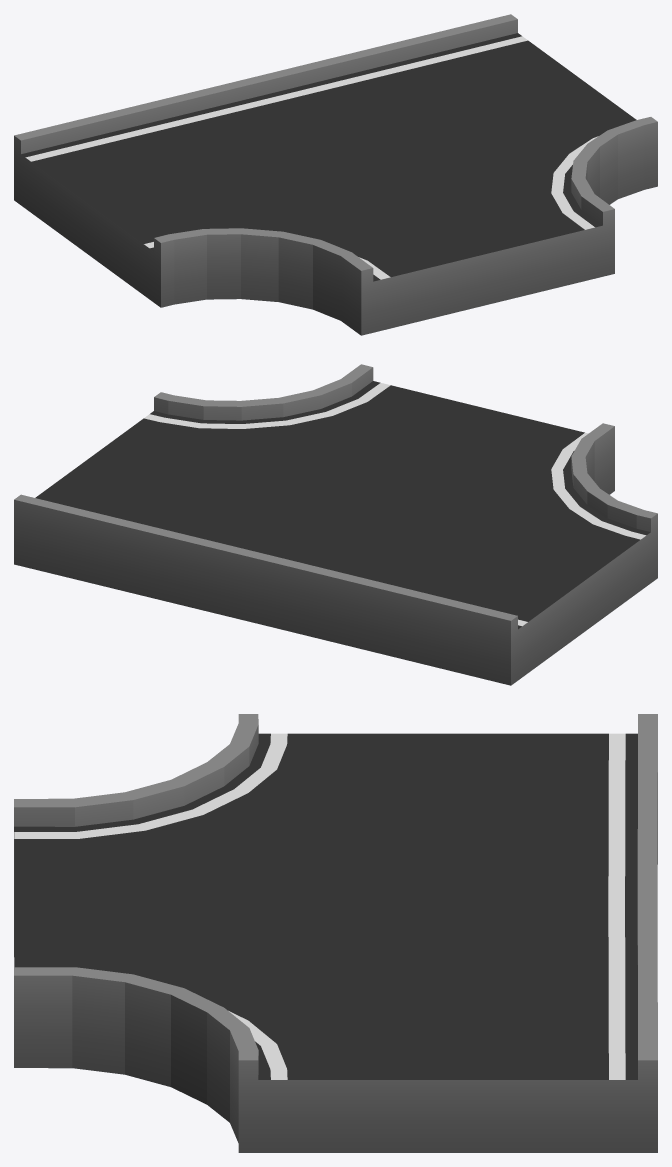
File: T_Intersection_Road.fbx
The picture shows the model from 3 angles, top to bottom: view 1: azimuth 30°, elevation 25°; view 2: azimuth 150°, elevation 25°; view 3: azimuth 270°, elevation 25°; orthographic projection. The views are drawn at different scales.
Parts seen in each view (by area): view 1: T_Intersection_Road; view 2: T_Intersection_Road; view 3: T_Intersection_Road.
Boxes of the visible parts, box(x1,y1,x2,y2) form: T_Intersection_Road: box(14, 14, 657, 335); T_Intersection_Road: box(14, 364, 657, 685); T_Intersection_Road: box(14, 714, 657, 1152).
Size of the model in its own units: 389 by 48.52 by 306.
